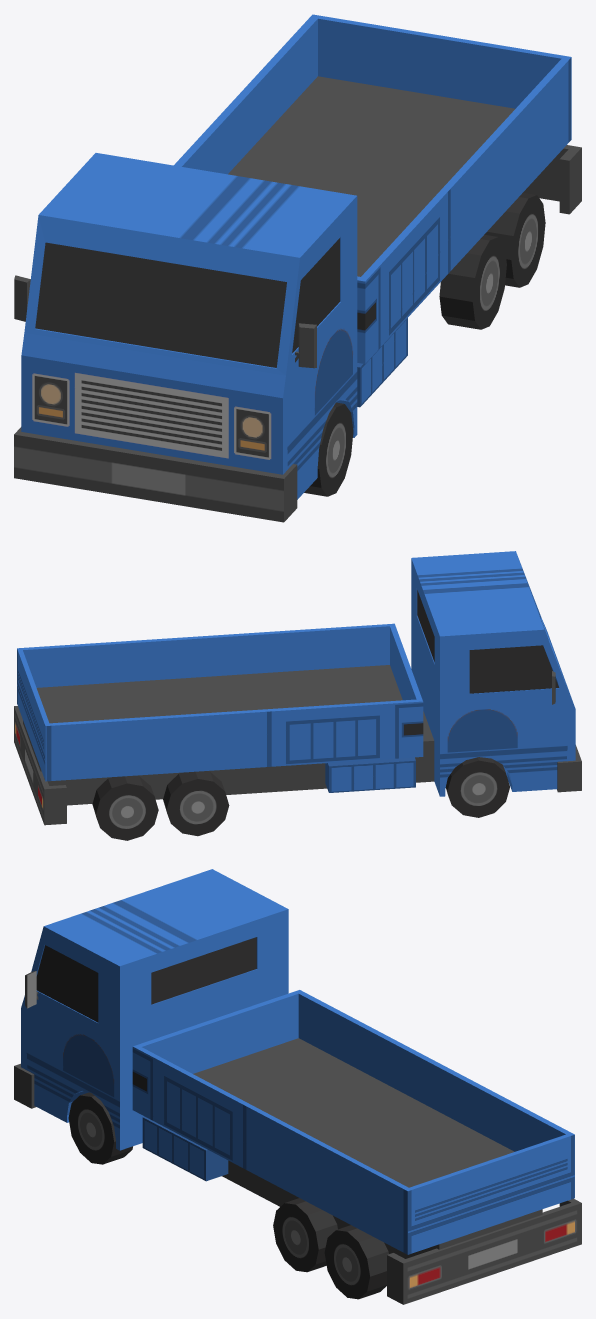
Rendered from Car9_truck1.glb.
The picture shows the model from 3 angles, top to bottom: view 1: azimuth 30°, elevation 25°; view 2: azimuth 150°, elevation 25°; view 3: azimuth 270°, elevation 25°; orthographic projection. The views are drawn at different scales.
Visible parts, largest first — view 1: Vehicle_Truck_color02.002; view 2: Vehicle_Truck_color02.002; view 3: Vehicle_Truck_color02.002.
Boxes of the visible parts, left/top/right/bottom form: Vehicle_Truck_color02.002: left=14, top=14, right=581, bottom=522; Vehicle_Truck_color02.002: left=14, top=551, right=581, bottom=840; Vehicle_Truck_color02.002: left=14, top=869, right=581, bottom=1304.
Bounding box in the file's own units: 2.29 × 0.8483 × 2.06.
1 material, 1 textured.
